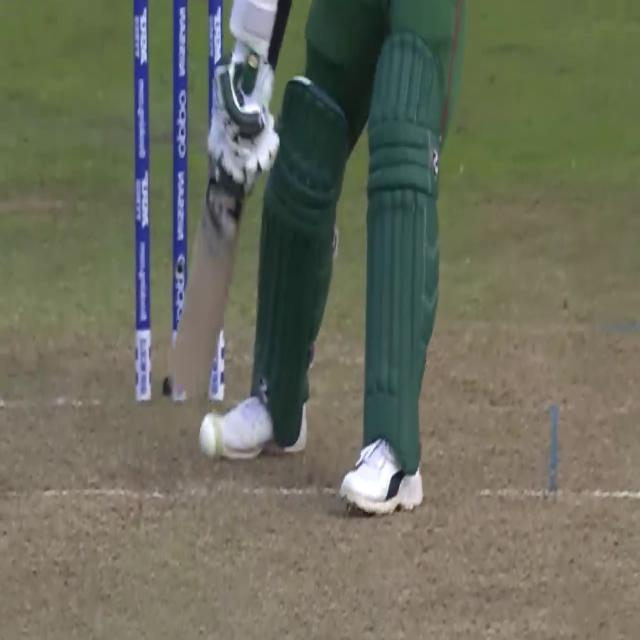ball: (197, 407, 230, 469)
